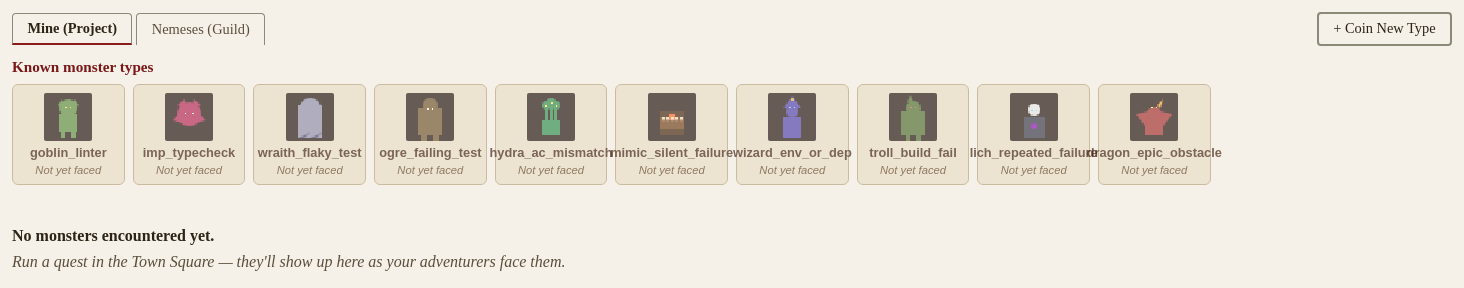
Test: Bestiary — scope filter tabs › shows guild empty state with hint when Nemeses tab is active and empty
The image size is (1464, 288).
Click the tab "Nemeses (Guild)". click: (201, 29)
box: [136,12,265,45]
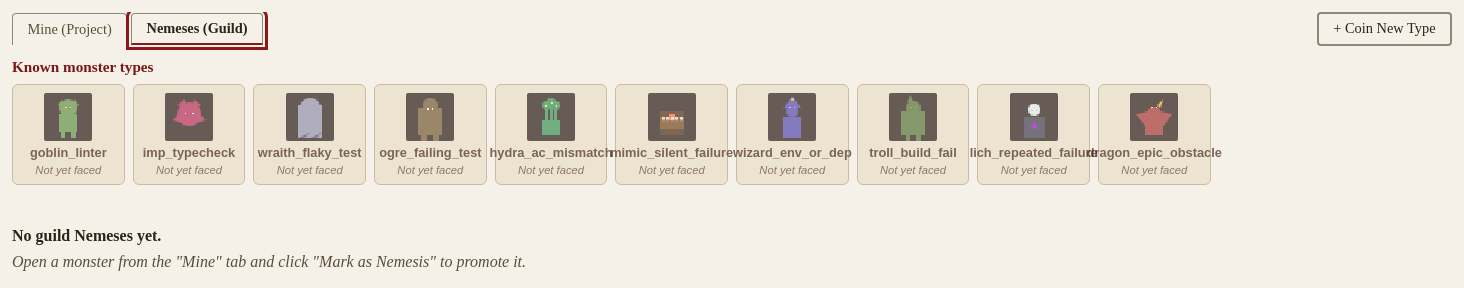
Result: the text "No guild Nemeses yet." is shown at [12,227,161,244]
